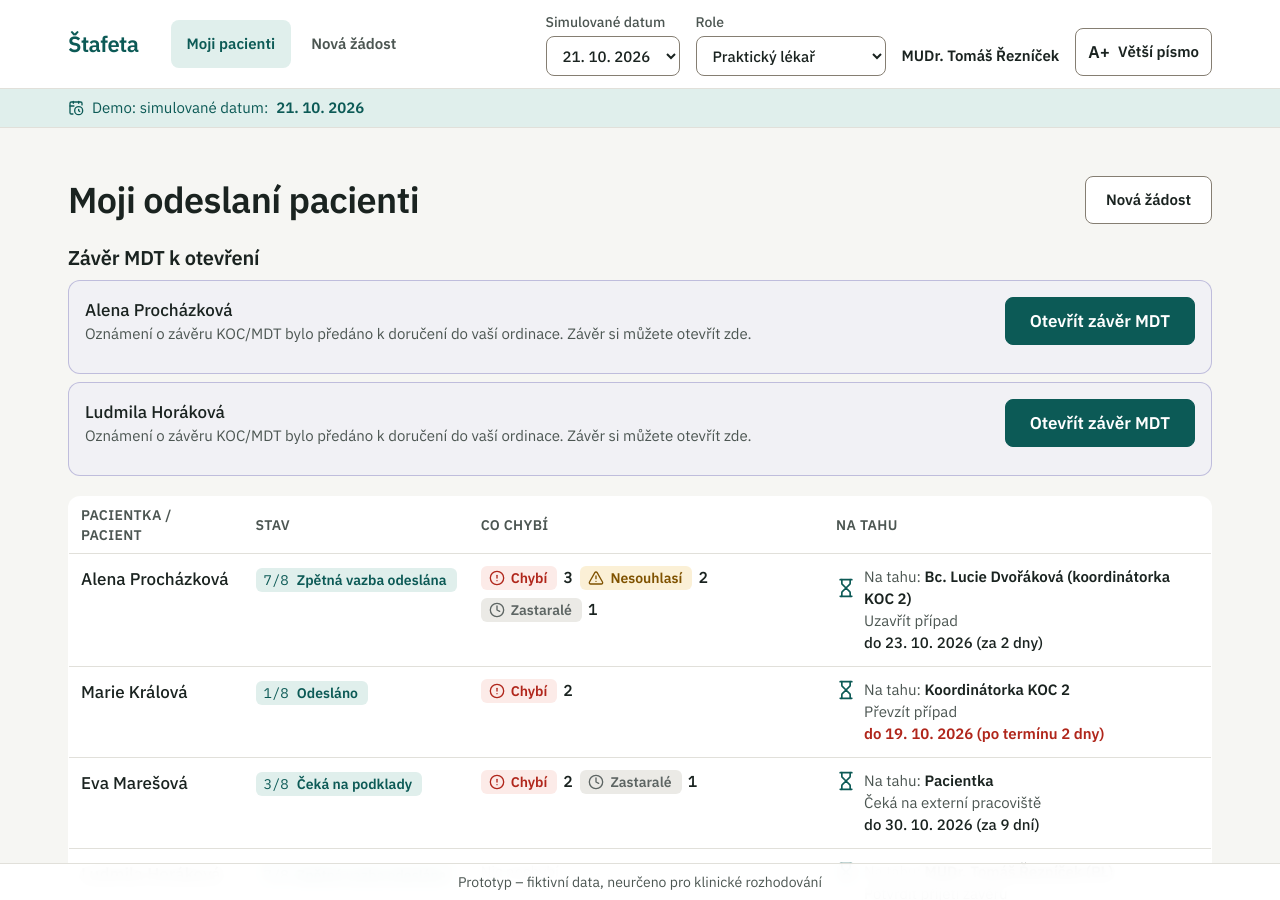
it: route smoke + axe › demo step 6 on 21. 10.: sending the conclusion makes the MDT result appear for the GP, who can read it
Click the button with aria-label "Otevřít závěr MDT: Alena".
click(1100, 321)  # box [1005,297,1195,345]
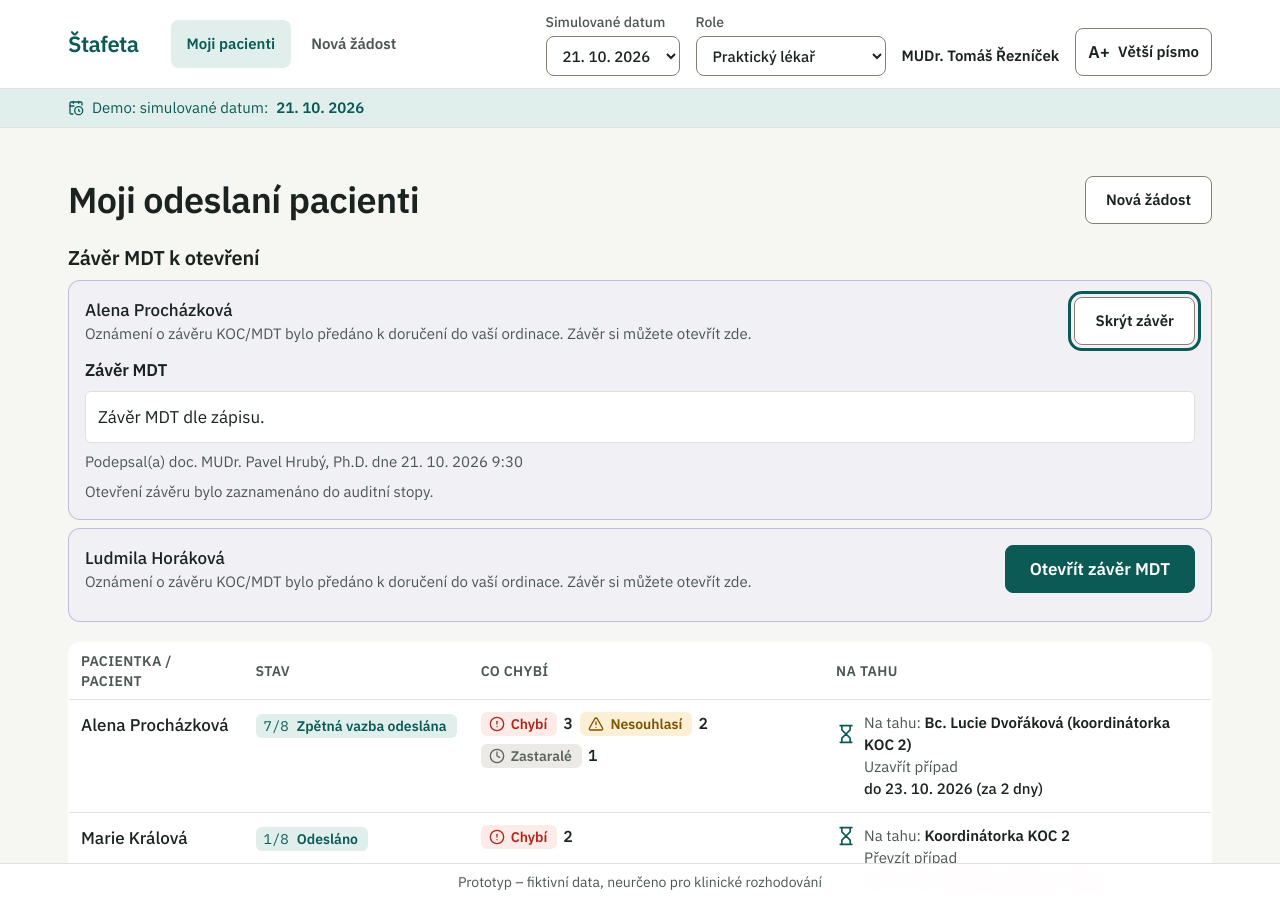
Result: the text "Otevření závěru bylo zaznamenáno do auditní stopy." is shown at [85,482,434,501]
